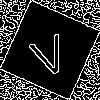V: (25, 25, 72, 79)
